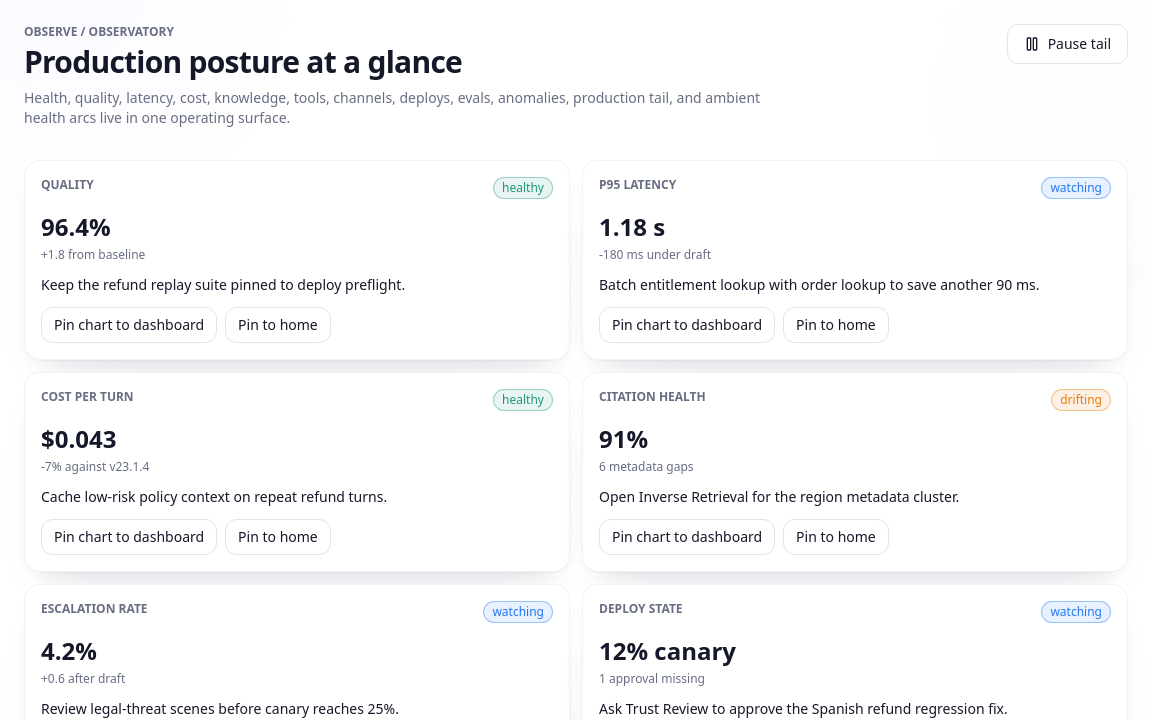
Test case: ObservatoryScreen › pins observatory metrics to the homepage through cp-api
The width and height of the screenshot is (1152, 720).
Click the button with test id "observatory-home-pin-quality" at (278, 325), box [225,307,331,343]
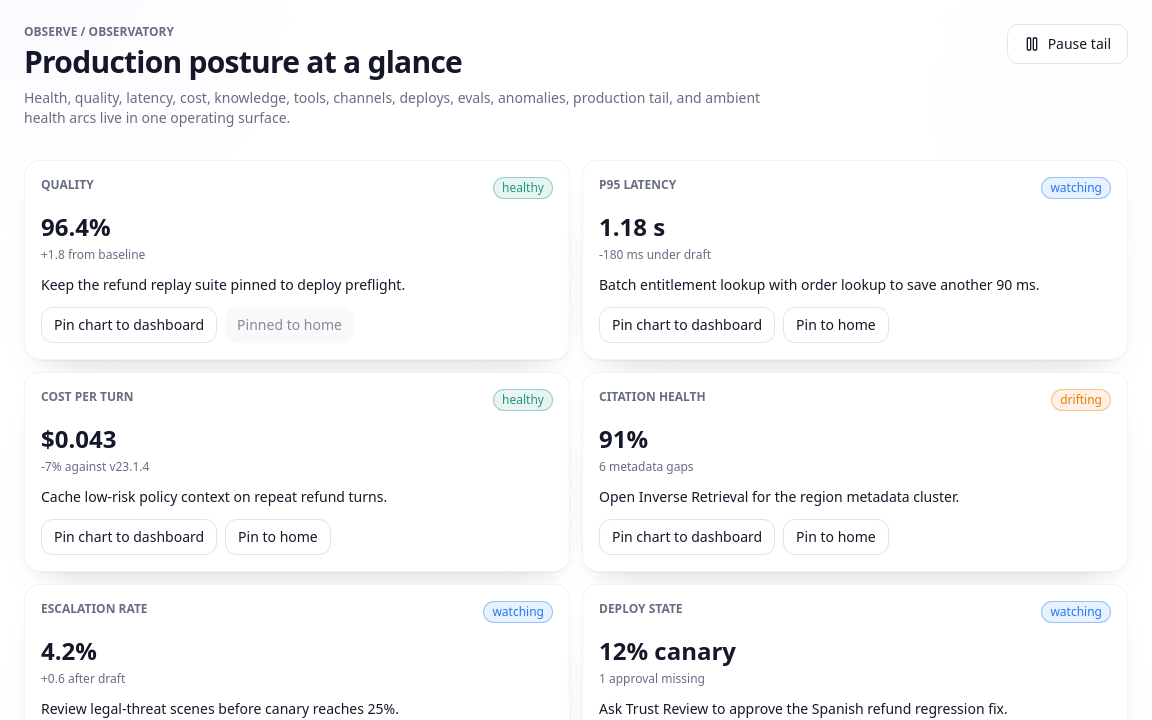
expect the button "Pinned to home" is shown: met, box [225,307,354,343]
